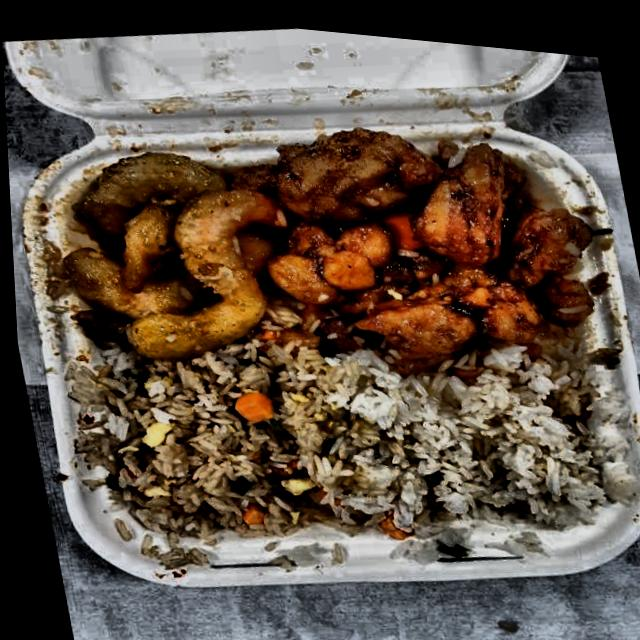Food: (226, 79, 616, 392), (48, 314, 360, 580), (15, 114, 310, 390), (317, 322, 640, 559)
